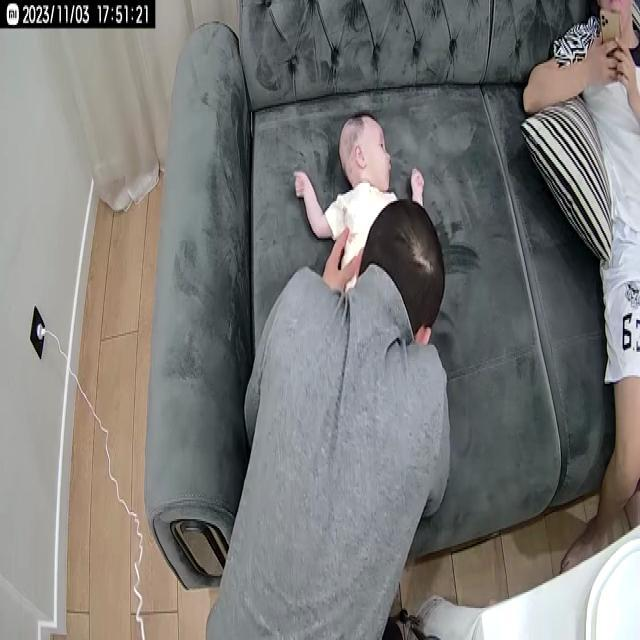baby: (292, 113, 425, 294)
